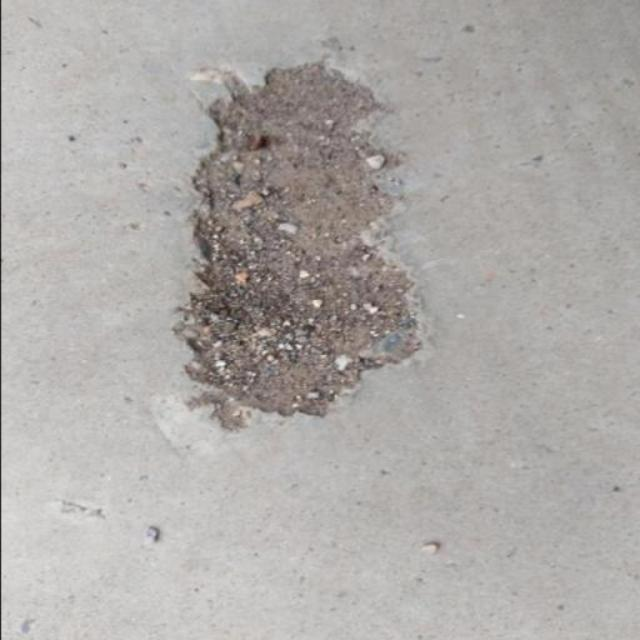D10: (174, 58, 429, 433)
